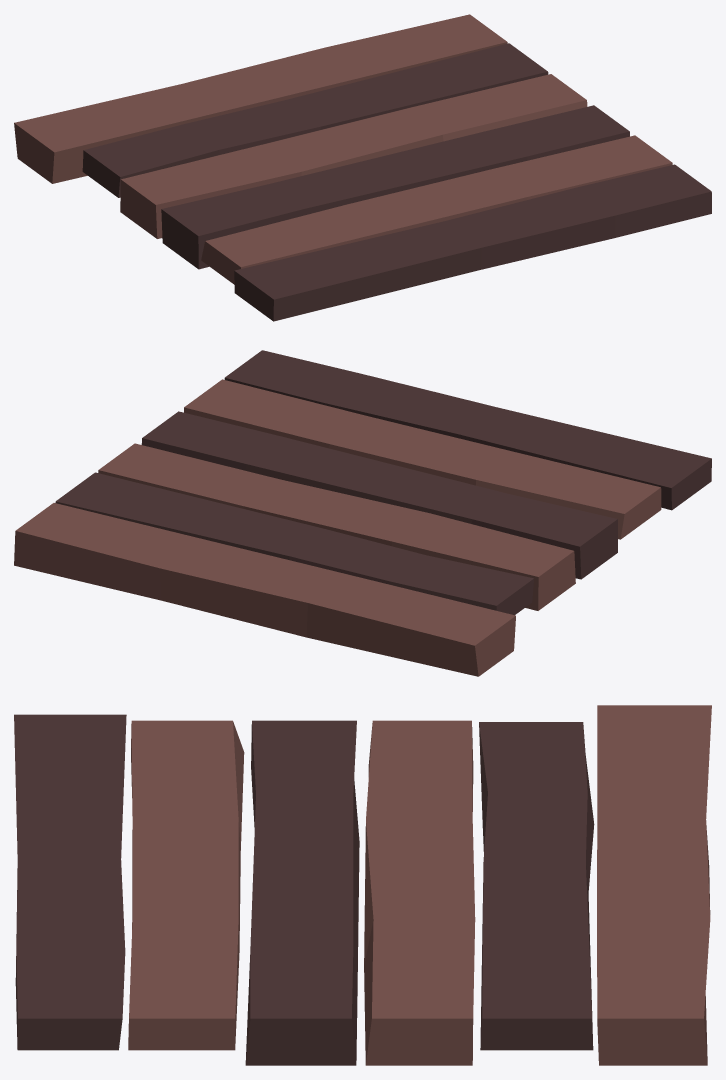
Rendered from LightRoseWoodDecorationSmallPlanks1.fbx.
The picture shows the model from 3 angles, top to bottom: view 1: azimuth 30°, elevation 25°; view 2: azimuth 150°, elevation 25°; view 3: azimuth 270°, elevation 25°; orthographic projection. The views are drawn at different scales.
Parts seen in each view (by area): view 1: LightRoseWoodDecorationSmallPlanks1; view 2: LightRoseWoodDecorationSmallPlanks1; view 3: LightRoseWoodDecorationSmallPlanks1.
Part boxes in pixels (<box>): LightRoseWoodDecorationSmallPlanks1: <box>14,14,711,321</box>; LightRoseWoodDecorationSmallPlanks1: <box>14,350,711,676</box>; LightRoseWoodDecorationSmallPlanks1: <box>14,705,711,1065</box>.
Bounding box in the file's own units: 579 × 40.4 × 544.
